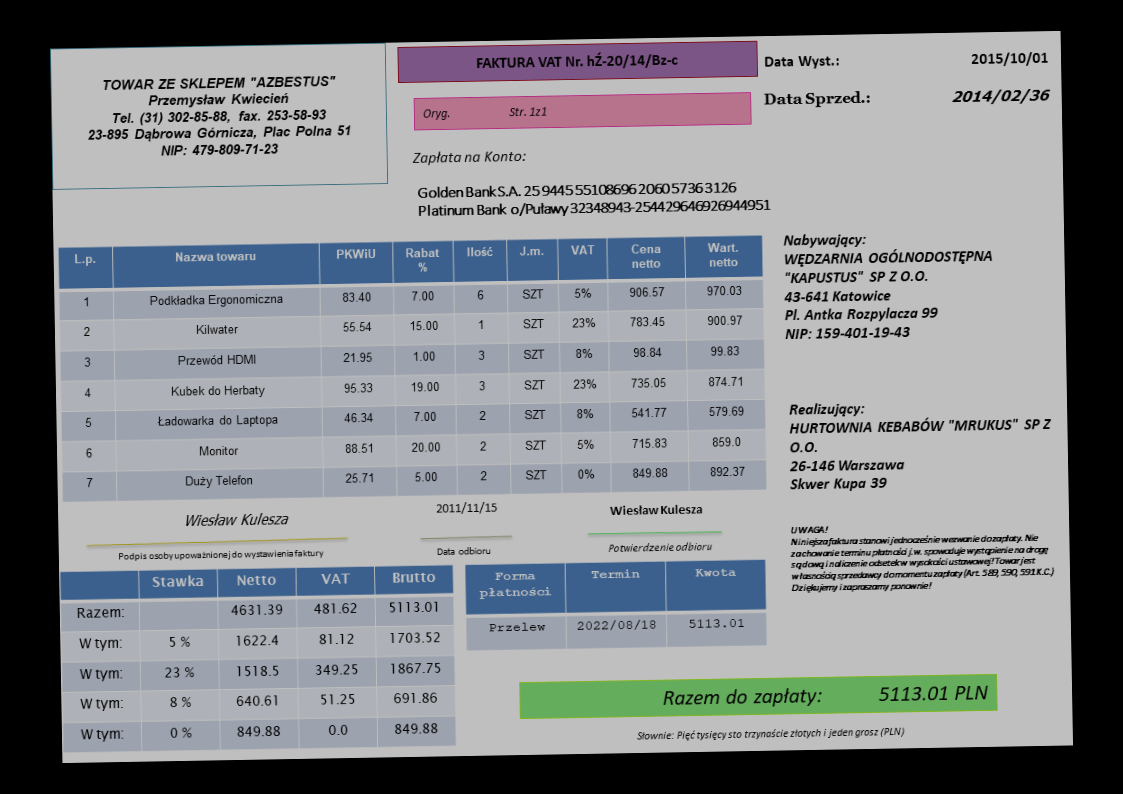Table: (57, 232, 766, 501), (60, 564, 456, 753), (463, 558, 768, 652)
TextBox: (787, 396, 1054, 493), (781, 229, 998, 344), (84, 73, 355, 161), (787, 519, 1058, 595), (416, 178, 774, 220), (660, 680, 990, 709), (635, 724, 906, 744), (475, 48, 680, 74), (116, 545, 325, 563), (409, 146, 528, 168), (763, 89, 874, 111), (182, 509, 292, 531), (951, 86, 1052, 108), (420, 104, 549, 120), (607, 500, 705, 519), (606, 539, 714, 556), (969, 49, 1049, 68), (763, 53, 842, 71), (433, 499, 499, 517), (434, 544, 491, 558)
